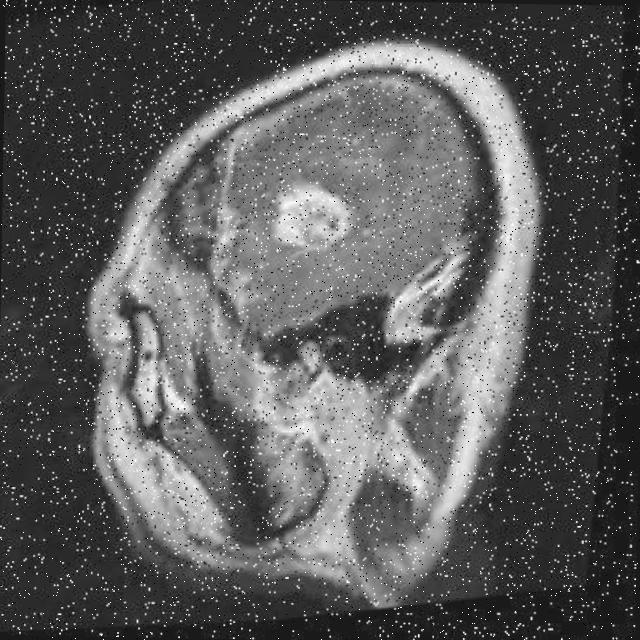LMCI: (210, 158, 410, 300)
